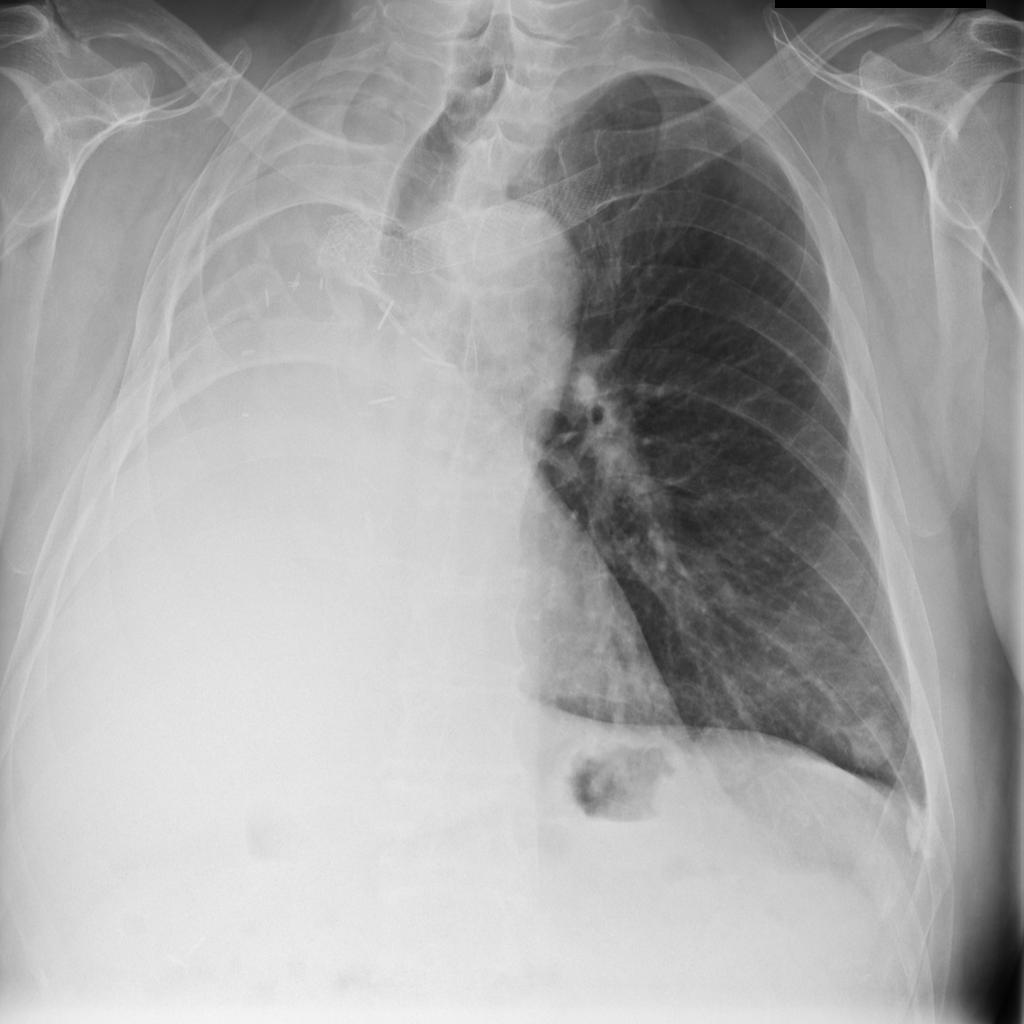nodule: (834, 701, 907, 781)
